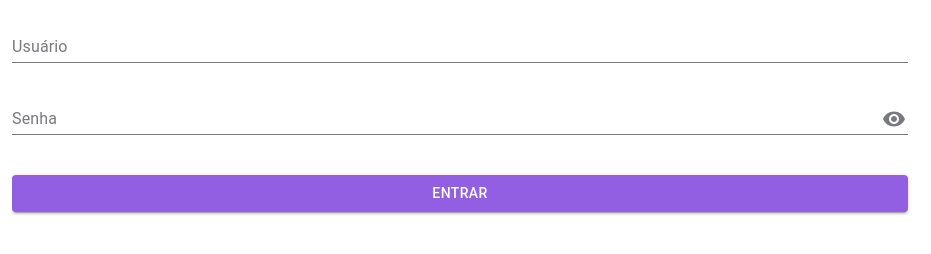
Test: LoginForm › mostra erro com credenciais incorretas
The image size is (931, 254).
Type "user" into the field labelled "Usuário".
click(460, 47); type("user")  # box left=12, top=31, right=908, bottom=63
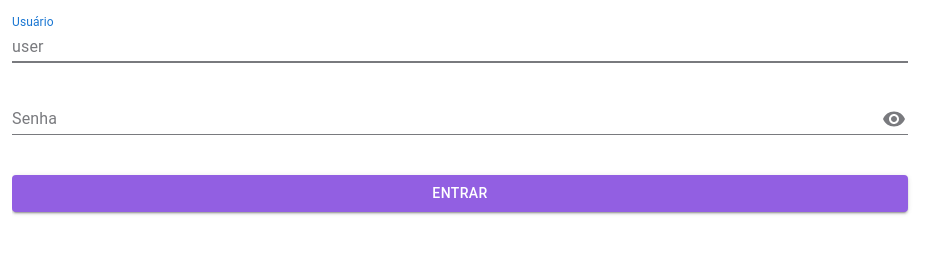
Type "1234" into the password field labelled "Senha".
click(440, 119); type("1234")  # box left=12, top=103, right=869, bottom=135
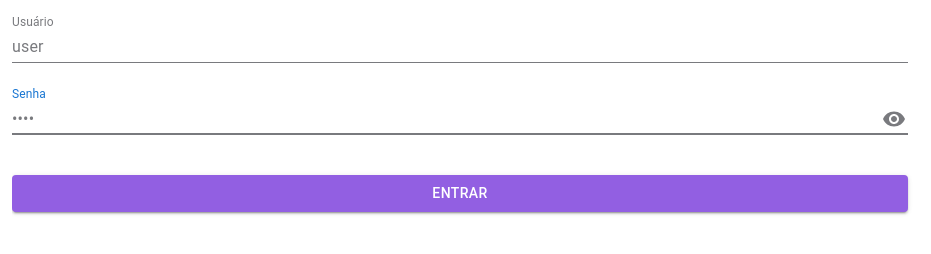
Click the button "Entrar".
click(460, 193)  # box left=12, top=175, right=908, bottom=212
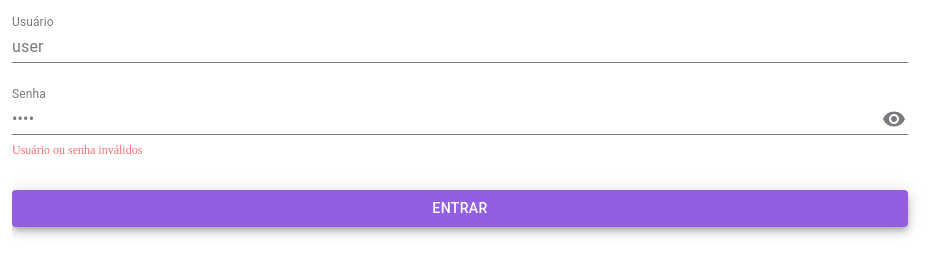
Check: the text "Usuário ou senha inválidos" is shown, box left=12, top=143, right=142, bottom=157
